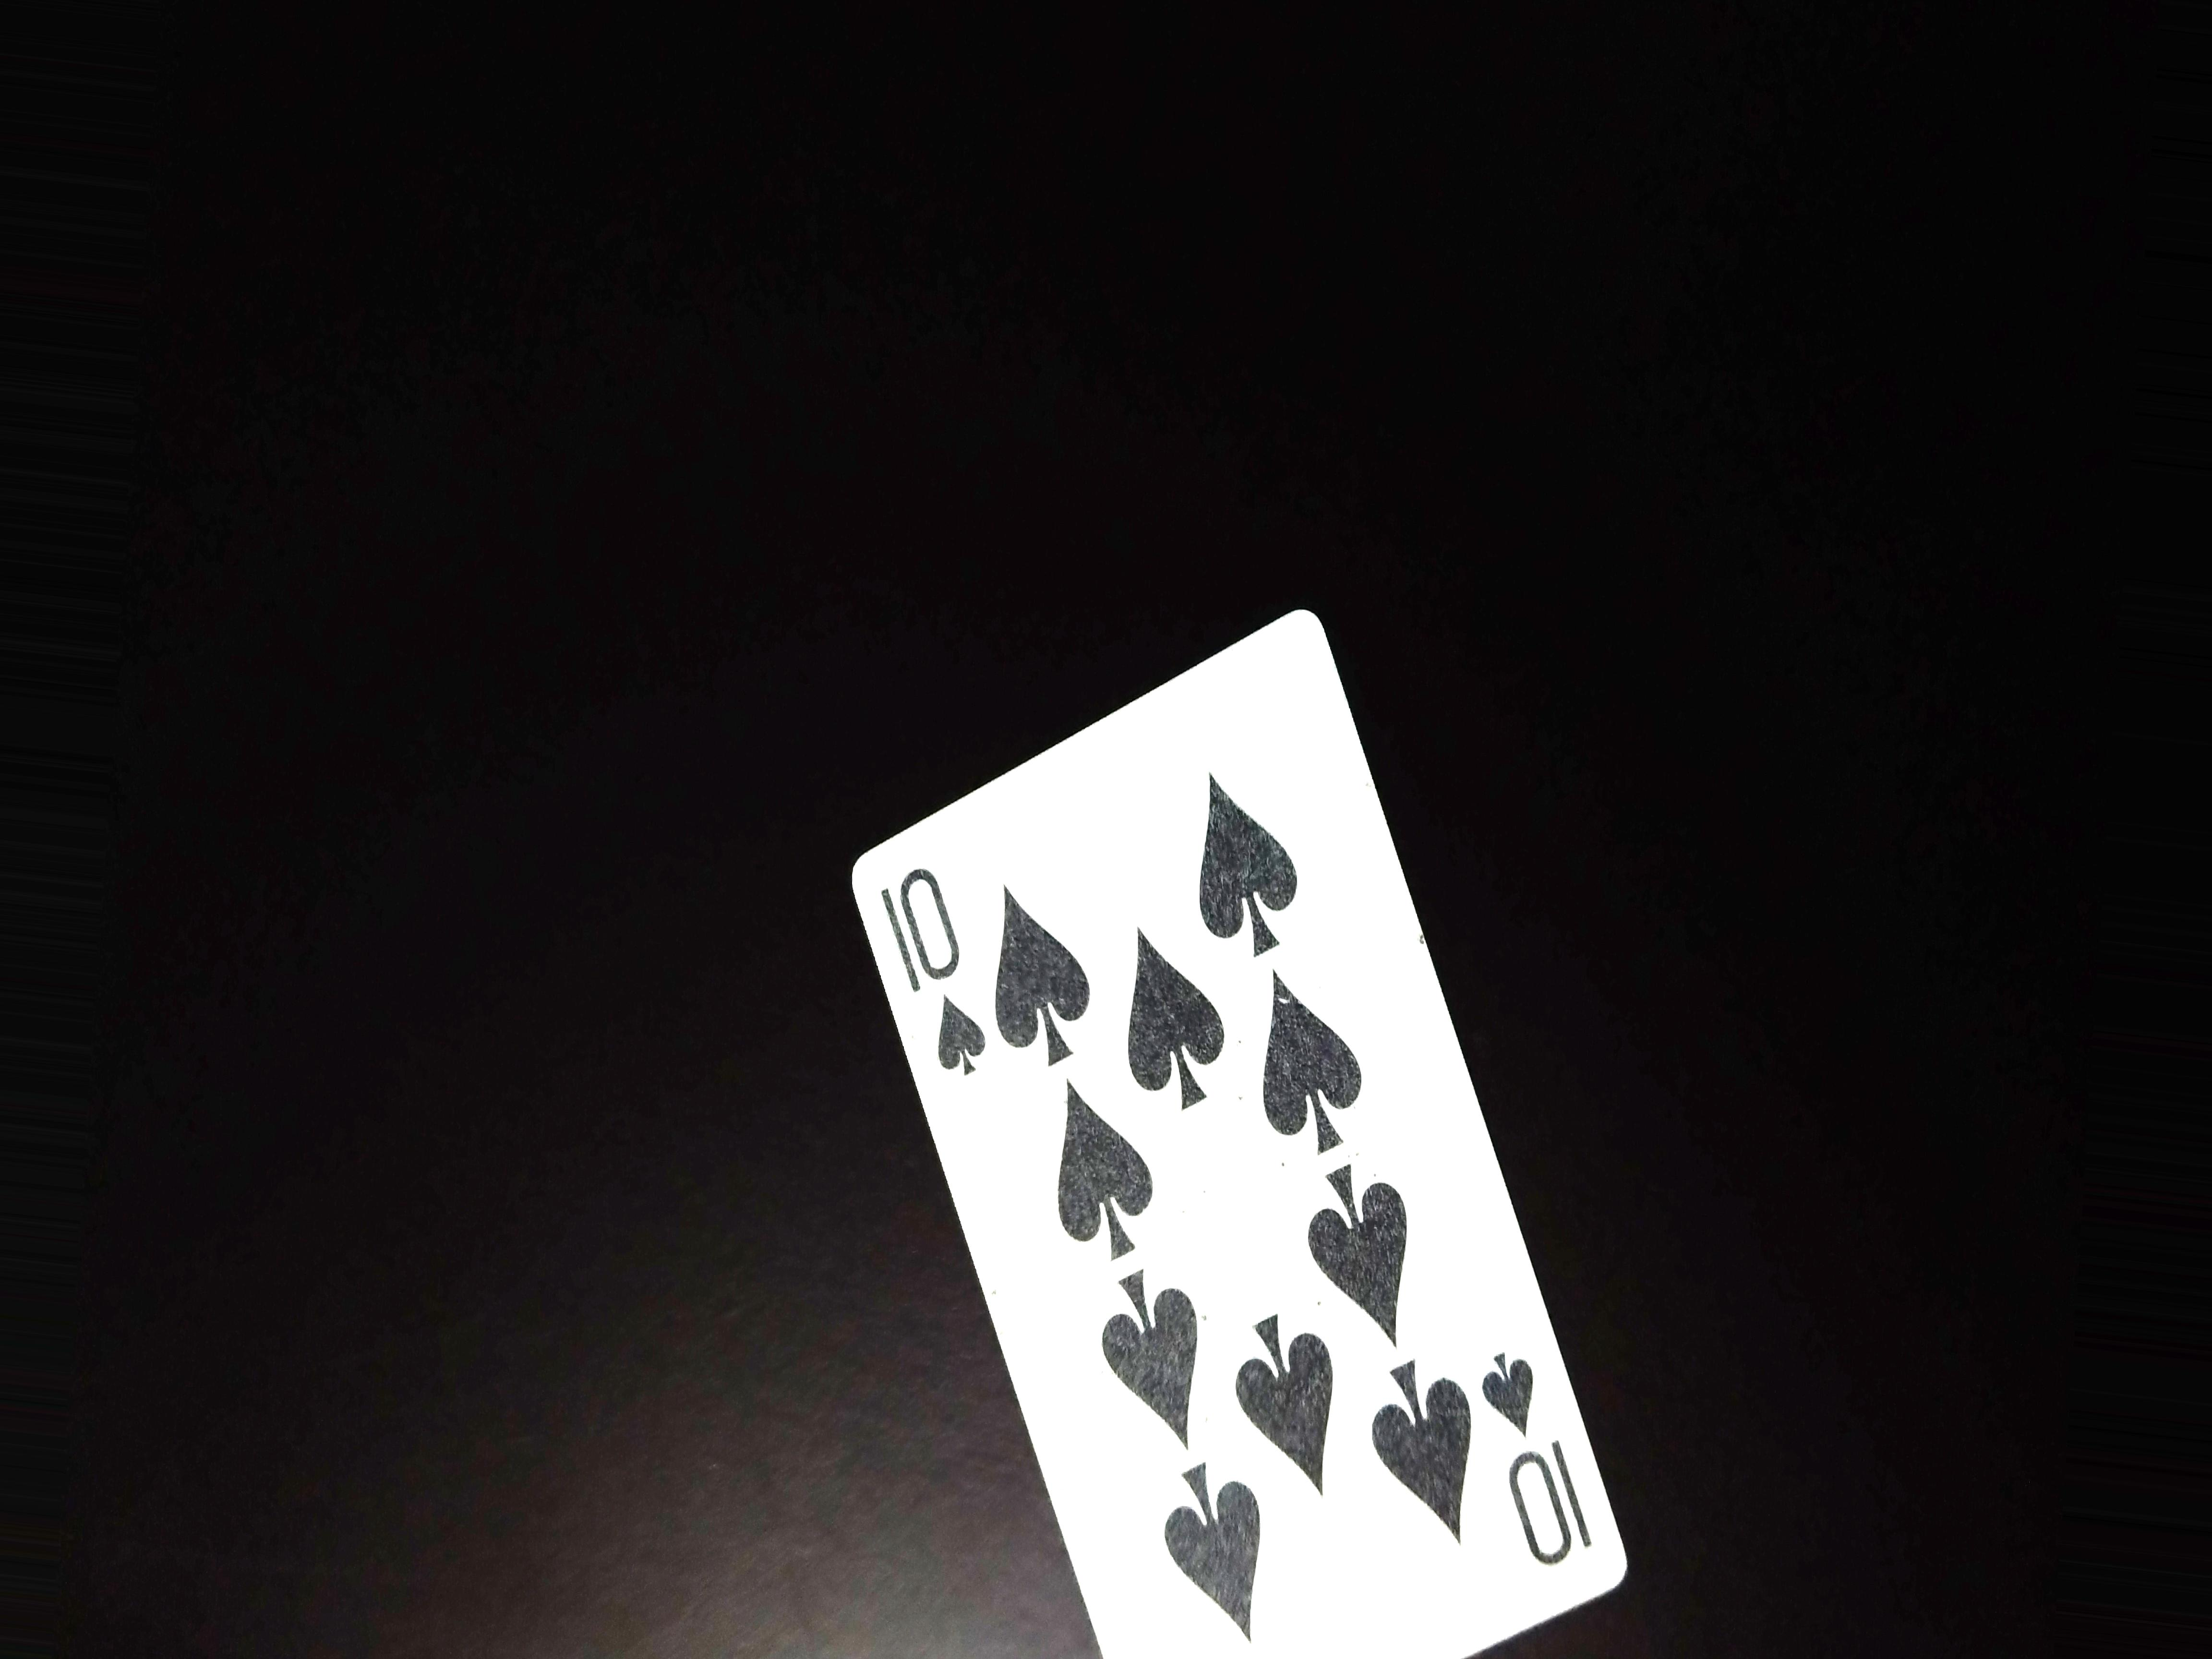10S: (874, 859, 1005, 1089)
